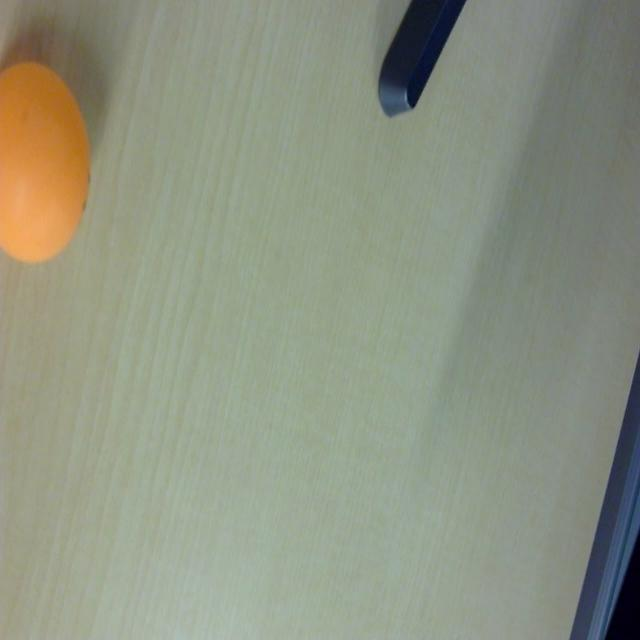ball: (0, 58, 93, 266)
